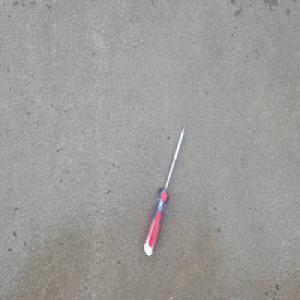Screwdriver: (141, 120, 187, 257)
